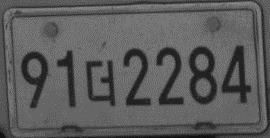1: (48, 46, 82, 109)
2: (119, 47, 152, 108), (154, 45, 185, 107)
4: (219, 44, 253, 106)
8: (187, 45, 219, 104)
9: (19, 49, 50, 110)
더: (85, 58, 118, 107)
